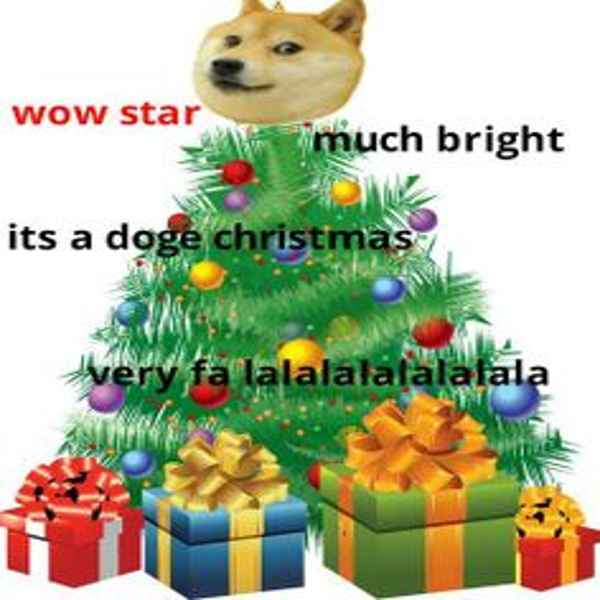doge: (181, 1, 381, 126)
